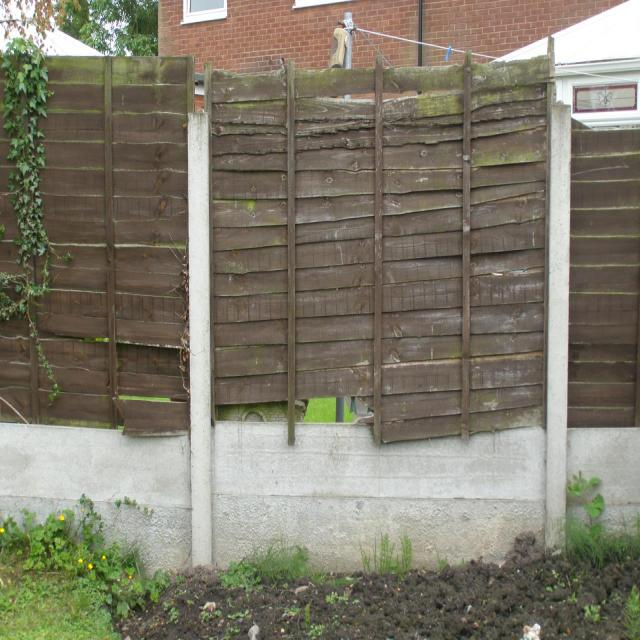rotten_timber: (230, 63, 548, 424), (208, 67, 549, 294), (7, 58, 190, 420), (211, 82, 291, 402), (294, 106, 374, 400)
